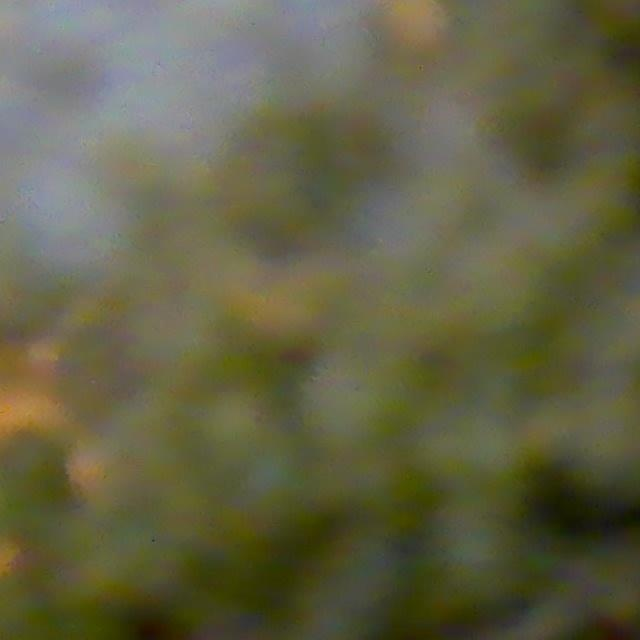SeaGrape: (8, 168, 122, 269), (193, 16, 288, 102), (279, 21, 370, 107), (155, 87, 226, 188), (0, 0, 79, 88), (0, 427, 65, 494)
